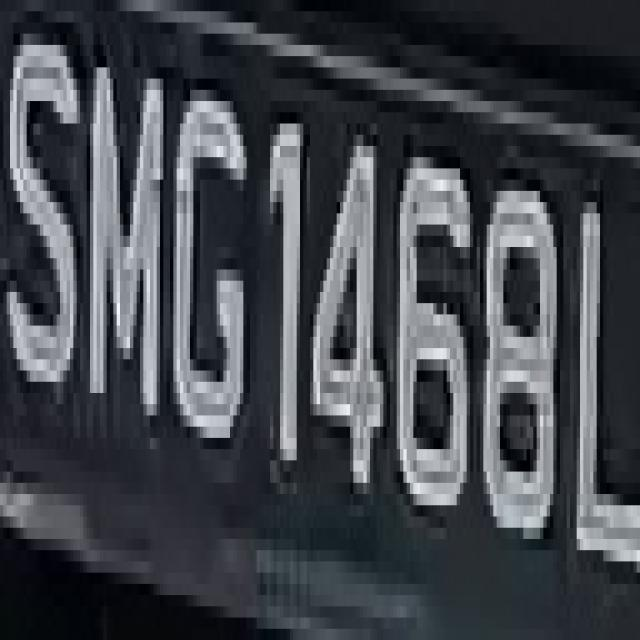1: (267, 112, 303, 506)
4: (300, 79, 380, 505)
6: (387, 124, 483, 550)
8: (480, 135, 563, 561)
G: (166, 56, 246, 472)
L: (570, 157, 633, 584)
M: (74, 34, 174, 438)
S: (3, 12, 80, 416)
